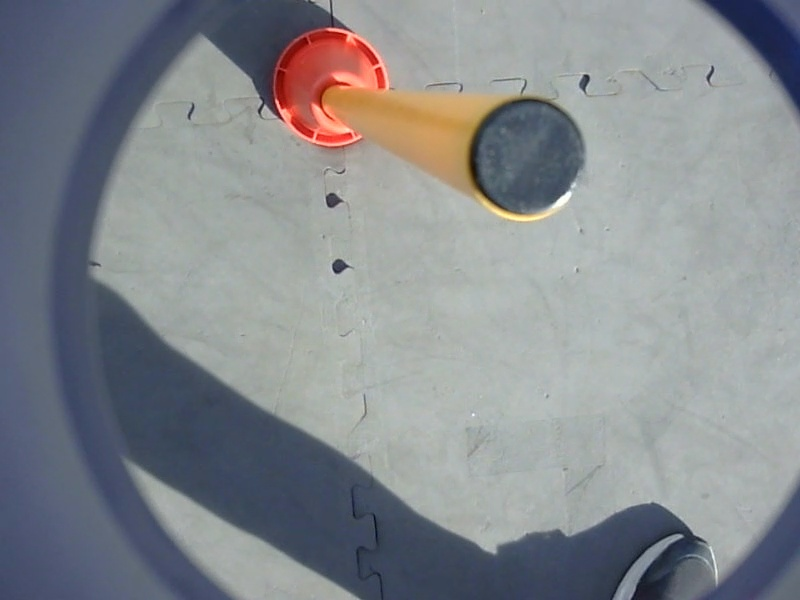tip: (462, 93, 597, 226)
